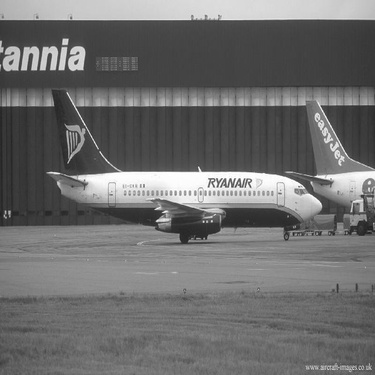airplane: (26, 59, 329, 256), (272, 84, 372, 233)
